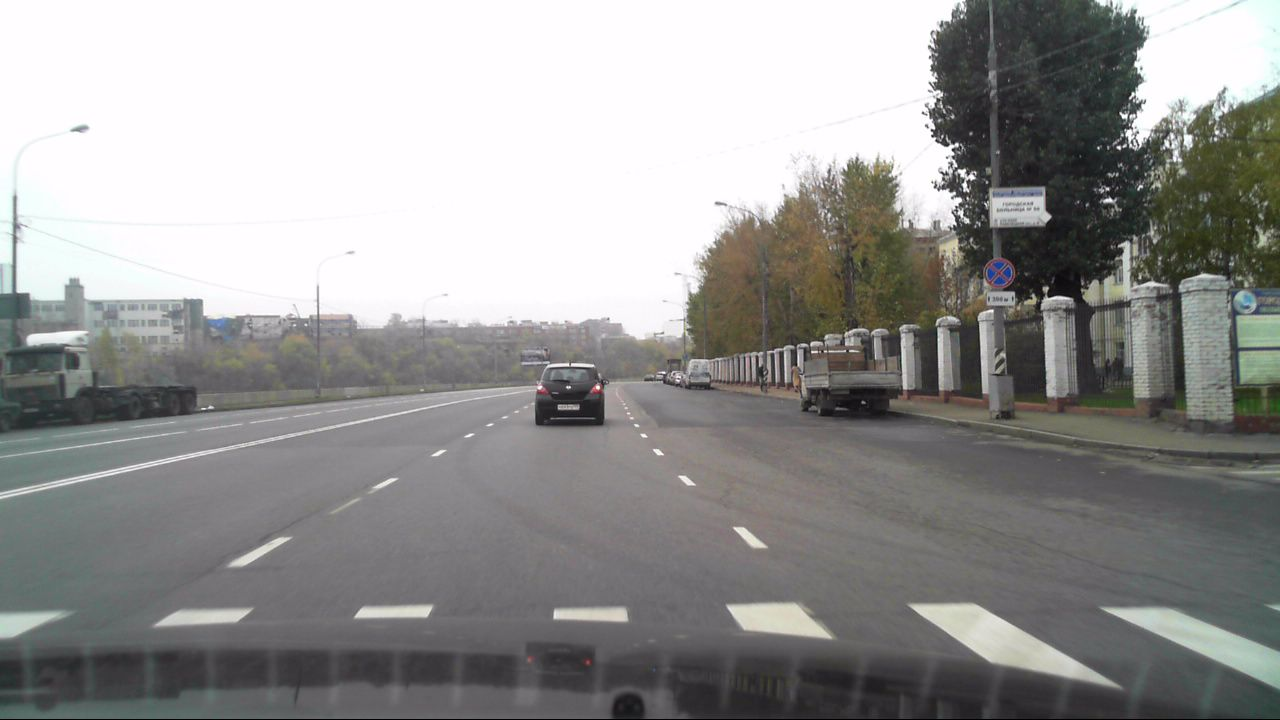No Parking: (982, 256, 1015, 288)
